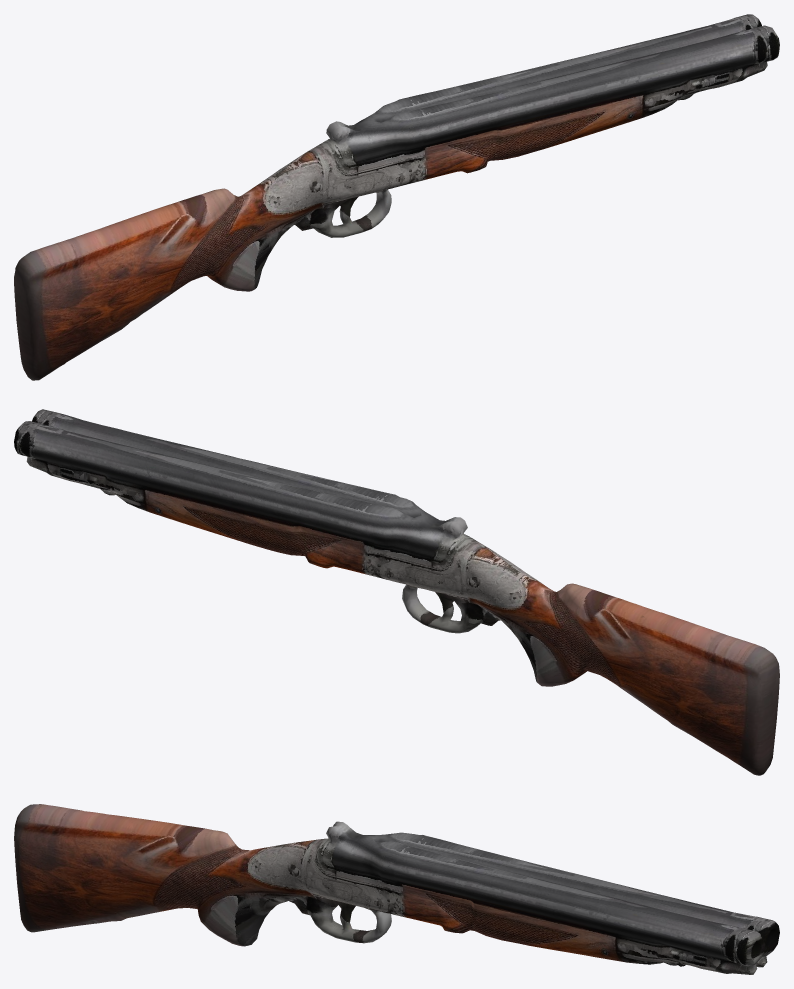
The model's file is shotgun.glb.
3 views of the same model, one above another, from view 1: azimuth 30°, elevation 25°; view 2: azimuth 150°, elevation 25°; view 3: azimuth 330°, elevation 25° (orthographic).
Visible parts, largest first — view 1: geometry_0; view 2: geometry_0; view 3: geometry_0.
Boxes of the visible parts, x1,y1,x2,y2 form: geometry_0: (14,14,779,380); geometry_0: (14,409,779,775); geometry_0: (14,804,779,974).
Bounding box in the file's own units: 1.1 × 0.2562 × 0.0864.
1 material, 1 textured.
